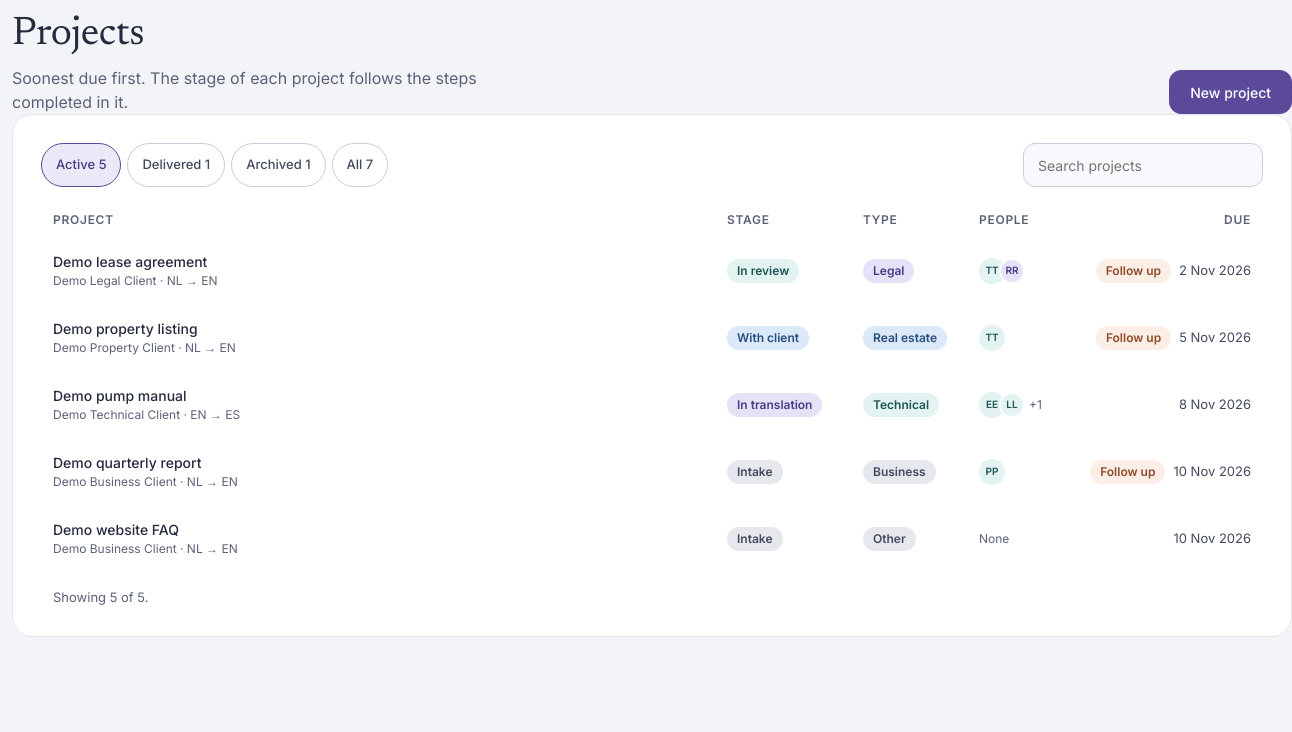
Test: ProjectsView › shows the client and pair, type chip, due date and a Follow up chip when one is waiting
Click the button "Archived 1": (278, 165) [231, 143, 326, 187]
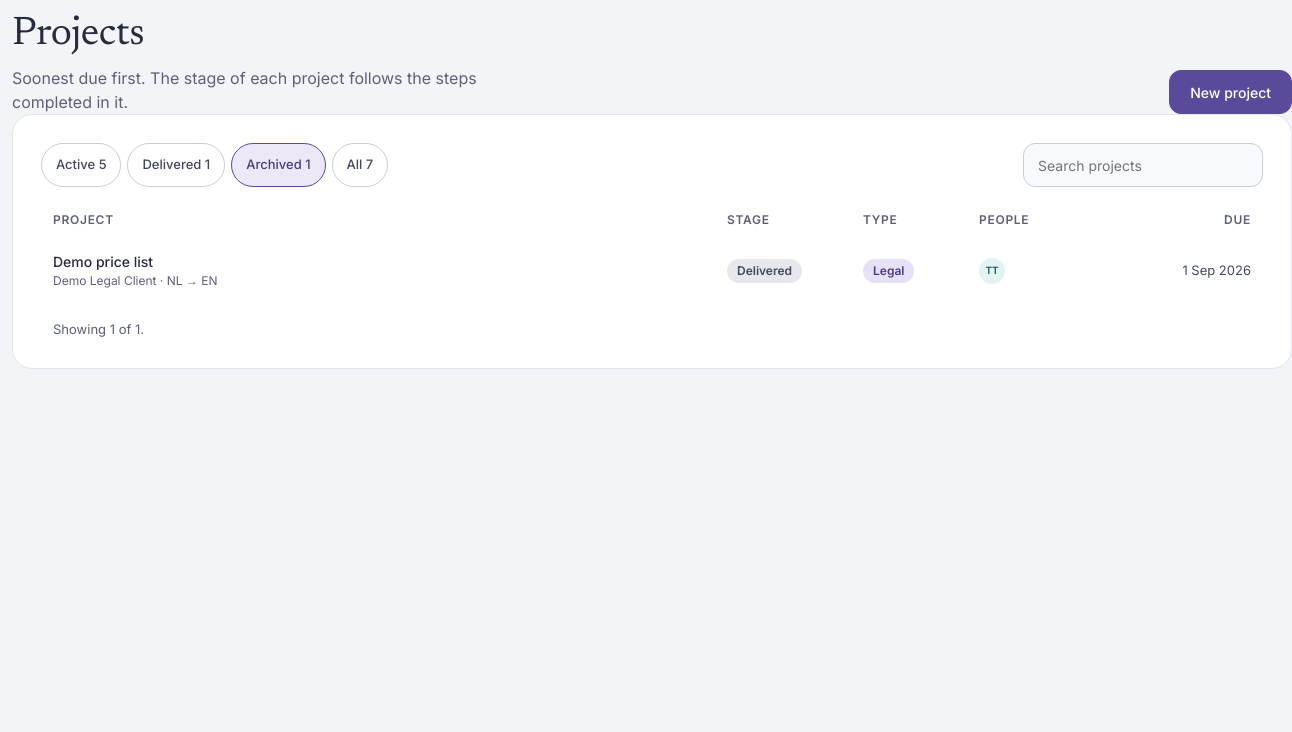
Check: the text "1 Sep 2026" is shown, box [1182, 262, 1251, 278]
